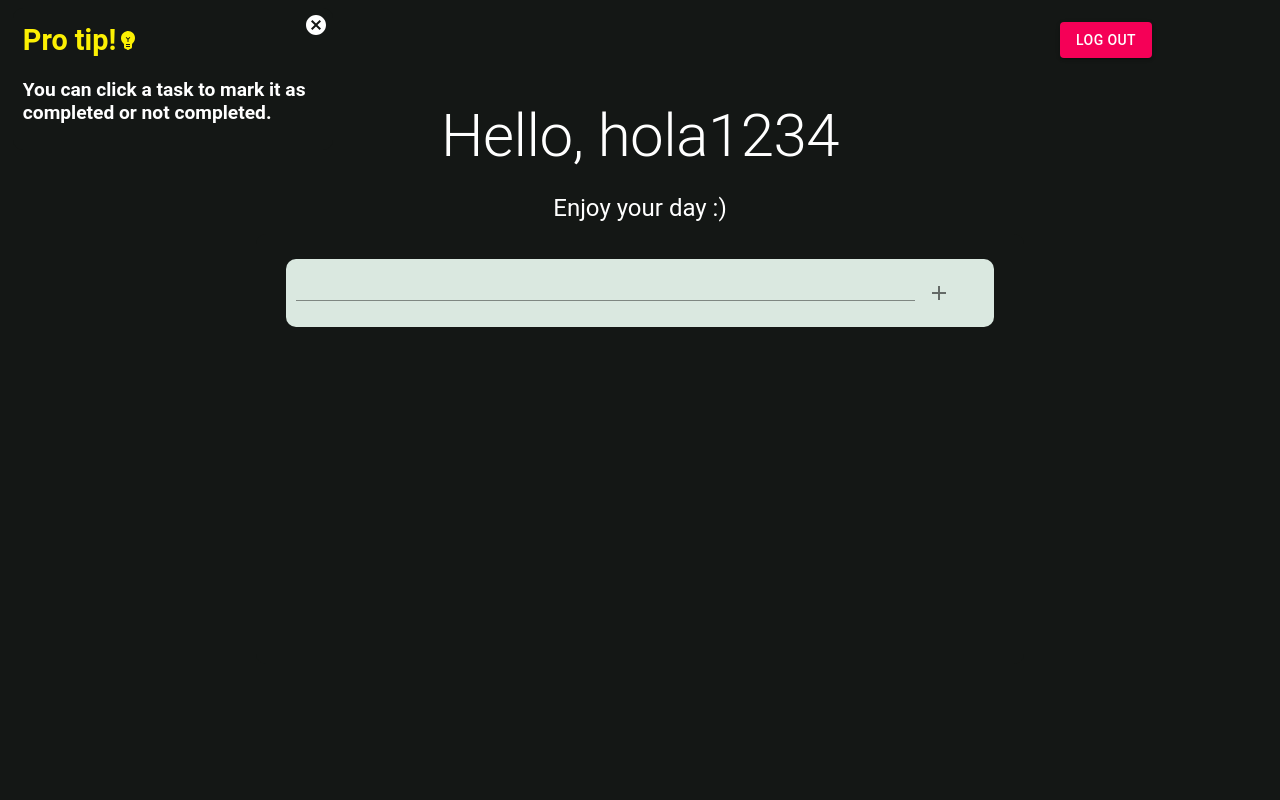
Test: Home view component › lets us create a task
This screenshot has width=1280, height=800.
Type "My new todo" into the field with test id "new-todo-input" at x=606, y=285, box [296,269,915,301]
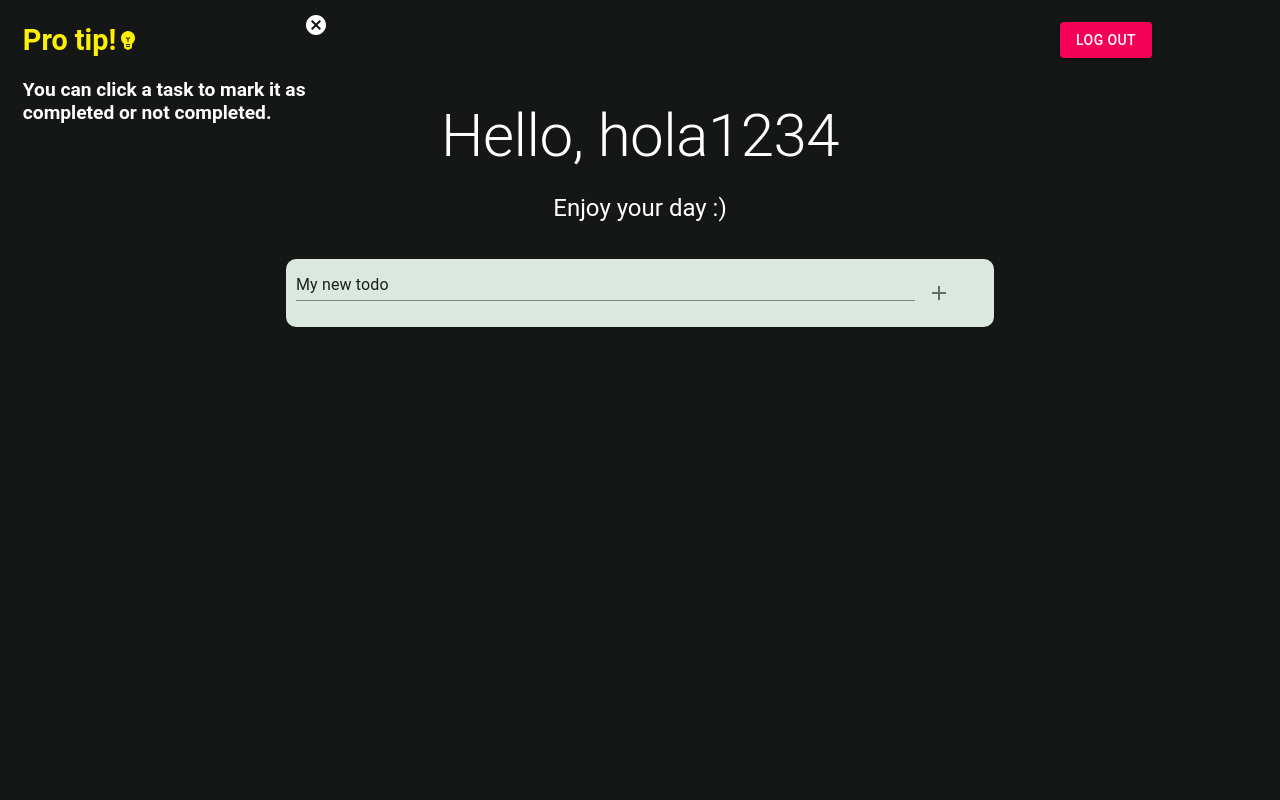
Click the button with test id "new-todo-btn" at x=939, y=293, box [915,269,963,317]
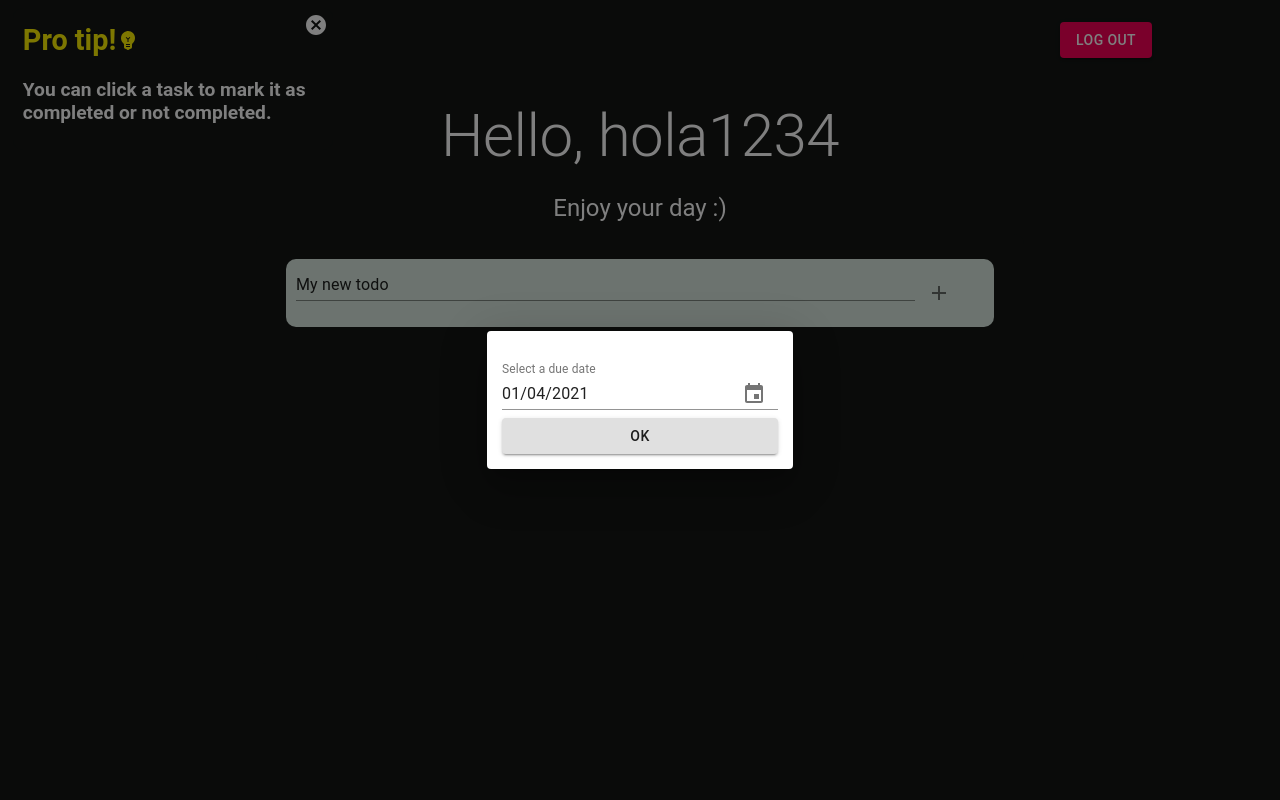
Click the button with test id "new-todo-date-btn" at x=640, y=436, box [502,418,778,454]
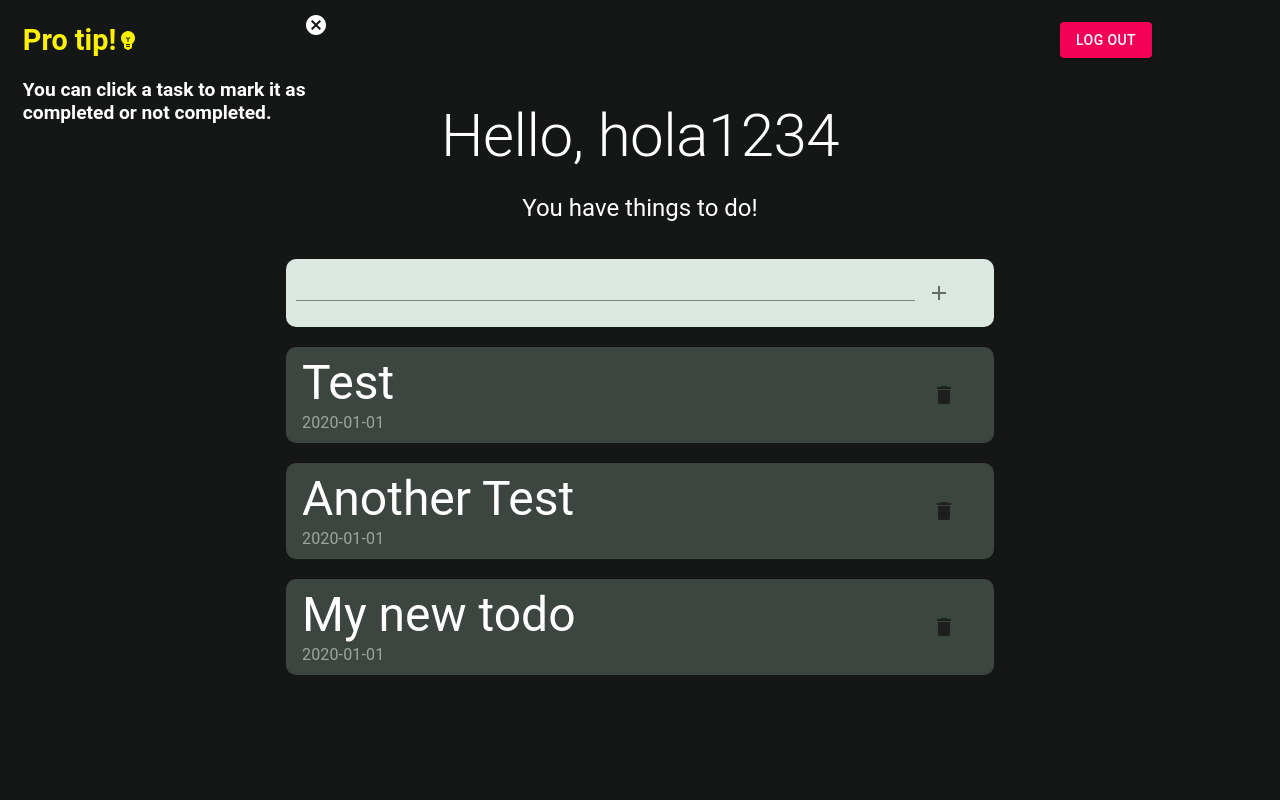
Expected: the heading "My new todo" is shown, [302,586,576,643]
